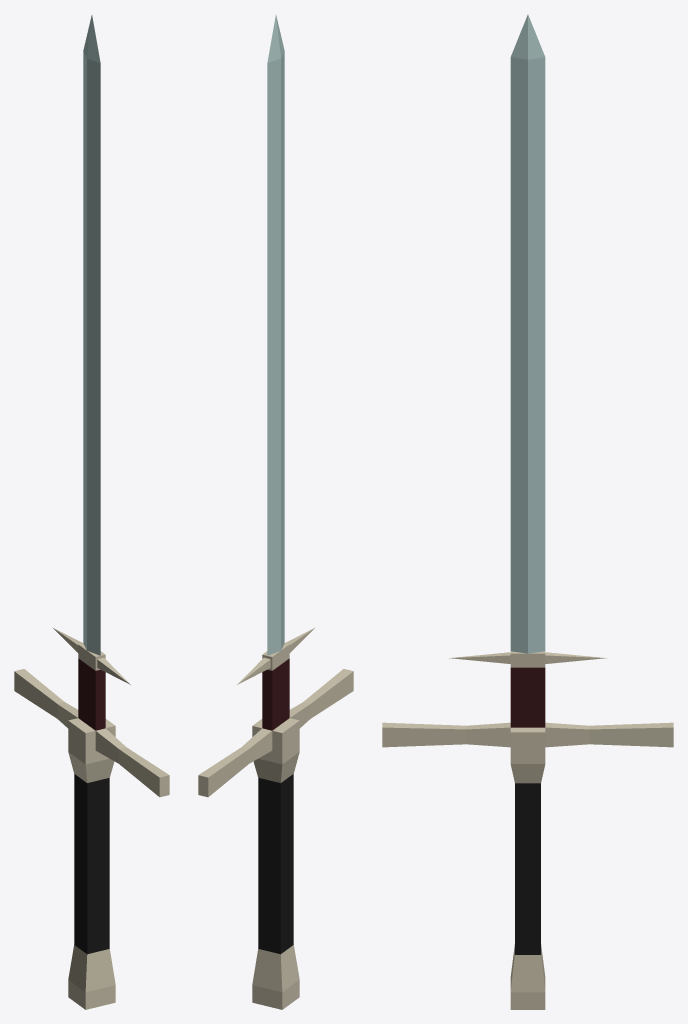
File: zweihander.fbx
3 views of the same model, side by side, from view 1: azimuth 30°, elevation 25°; view 2: azimuth 150°, elevation 25°; view 3: azimuth 270°, elevation 25° (orthographic).
Parts seen in each view (by area): view 1: Cube.001, Cube, Cube.002, Cube.003; view 2: Cube.001, Cube, Cube.002, Cube.003; view 3: Cube.001, Cube, Cube.002, Cube.003.
Boxes of the visible parts, bbox=[...] form: Cube.001: bbox=[83, 15, 100, 655]; Cube: bbox=[14, 628, 169, 1009]; Cube.002: bbox=[74, 774, 109, 954]; Cube.003: bbox=[78, 658, 105, 730]; Cube.001: bbox=[267, 15, 284, 655]; Cube: bbox=[198, 628, 353, 1009]; Cube.002: bbox=[258, 774, 293, 954]; Cube.003: bbox=[262, 658, 289, 730]; Cube.001: bbox=[510, 14, 545, 653]; Cube: bbox=[382, 651, 673, 1009]; Cube.002: bbox=[515, 783, 540, 954]; Cube.003: bbox=[510, 667, 545, 727].
Size of the model in its own units: 40.24 by 1259 by 337.
